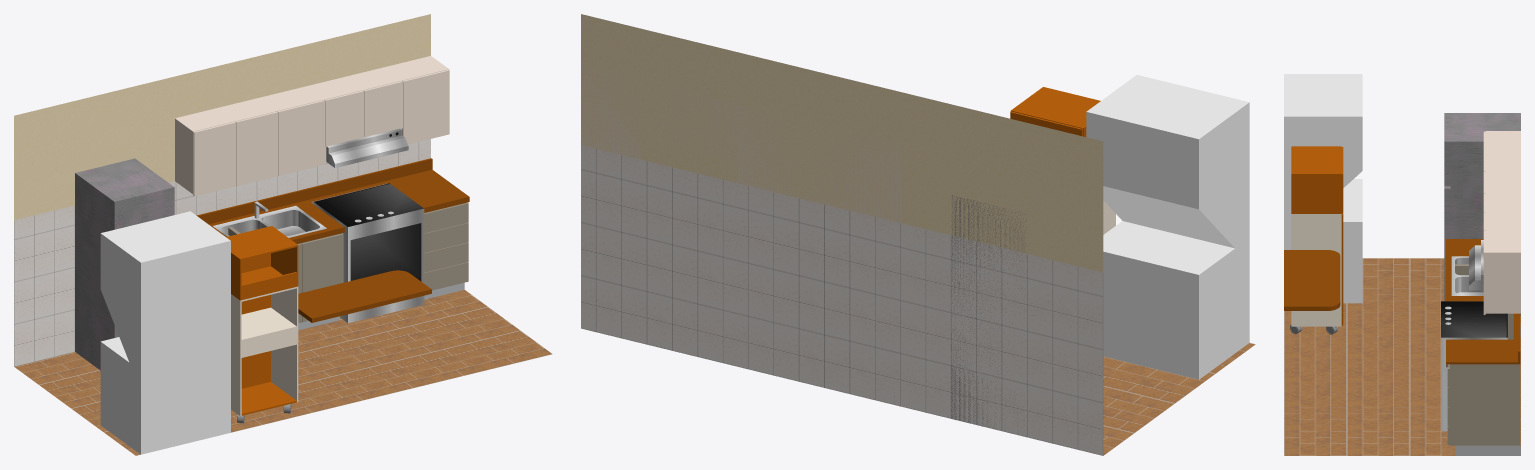
Rendered from kitchen.glb.
The picture shows the model from 3 angles, left to right: view 1: azimuth 30°, elevation 25°; view 2: azimuth 150°, elevation 25°; view 3: azimuth 270°, elevation 25°; orthographic projection. The views are drawn at different scales.
Parts seen in each view (by area): view 1: g4, g2, g9, g3, g6, g109, g58, g10, g5, g11, g8, g108 (+29 smaller); view 2: g3, g2, g4, g9, g57, g6, g47, g52, g75, g30; view 3: g9, g4, g22, g6, g58, g79, g46, g109, g64, g118, g75, g54 (+10 smaller).
Part boxes in pixels (x1,y1,x2,y2): g4: (100, 211, 230, 454); g2: (14, 14, 430, 220); g9: (14, 290, 552, 455); g3: (14, 139, 430, 366); g6: (75, 158, 174, 370); g109: (314, 183, 423, 281); g58: (298, 270, 431, 318); g10: (277, 100, 324, 175); g5: (402, 69, 449, 144); g11: (193, 122, 235, 196); g8: (235, 111, 277, 186); g108: (313, 202, 424, 323); g3: (581, 145, 1103, 455); g2: (581, 14, 1103, 272); g4: (1086, 75, 1249, 379); g9: (1103, 343, 1255, 455); g57: (797, 120, 901, 222); g6: (951, 195, 1026, 429); g47: (581, 66, 640, 159); g52: (737, 105, 796, 196); g75: (1012, 87, 1100, 128); g30: (641, 81, 737, 162); g9: (1284, 258, 1520, 455); g4: (1284, 74, 1362, 303); g22: (1449, 364, 1520, 445); g6: (1444, 113, 1520, 315); g58: (1284, 250, 1340, 306); g79: (1291, 214, 1341, 326); g46: (1485, 251, 1519, 313); g109: (1441, 301, 1507, 337); g64: (1291, 173, 1341, 213); g118: (1446, 339, 1517, 362); g75: (1291, 147, 1341, 173); g54: (1485, 132, 1519, 169).
Bounding box in the file's own units: 4.17 × 2.4 × 2.11.
Materials: 20 (8 with a texture image).
